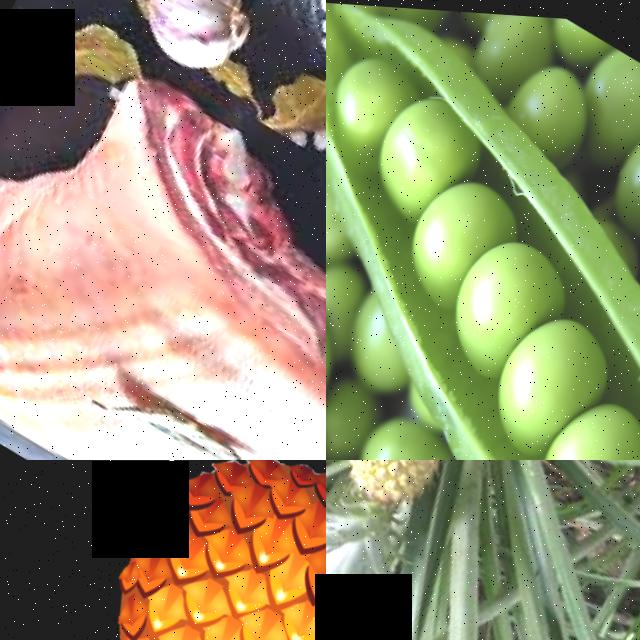peas: (326, 50, 608, 376), (435, 289, 640, 460)
pineapple: (0, 460, 326, 640), (326, 460, 480, 549)
pork belly: (0, 24, 326, 460)
